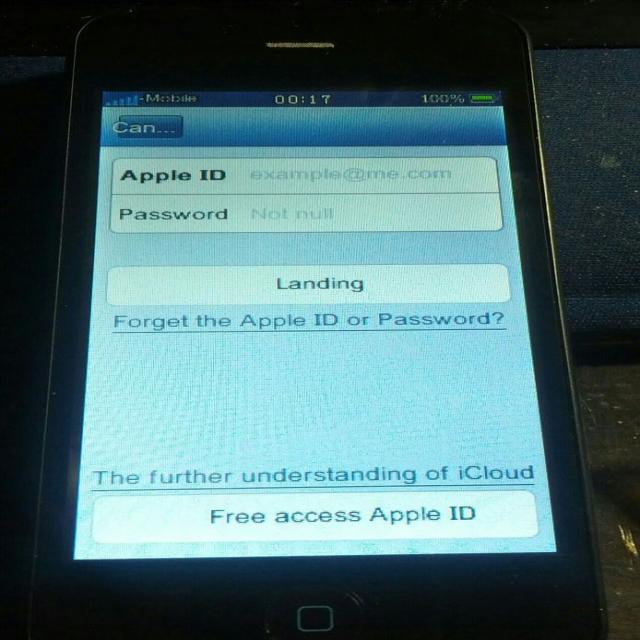Mobile-phone: (9, 0, 596, 627)
